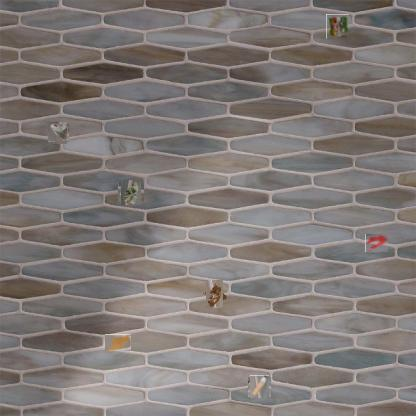dirty: (326, 14, 349, 39), (202, 283, 225, 305), (120, 181, 143, 203), (249, 376, 270, 398), (48, 123, 68, 143)
liquid: (105, 334, 131, 351), (365, 234, 388, 252)
